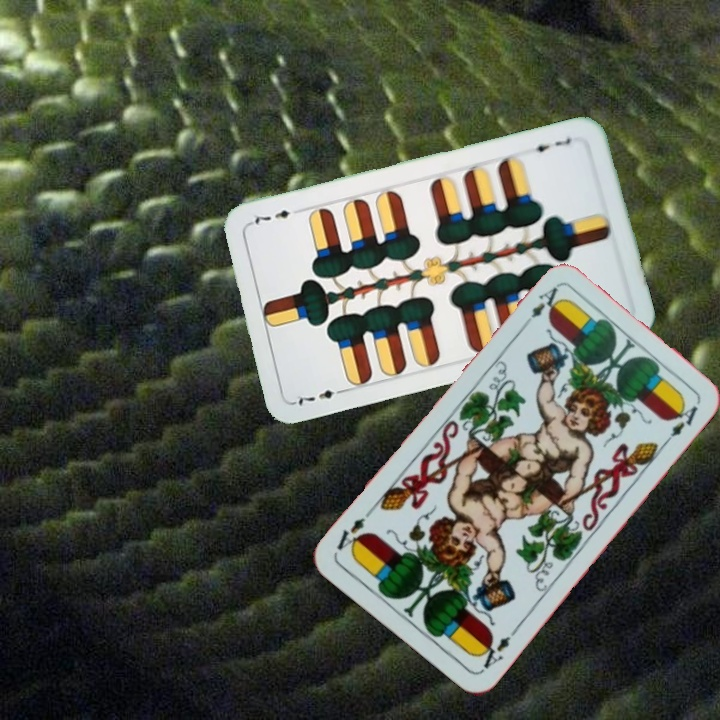E7: (292, 385, 349, 408), (525, 133, 575, 155)
EA: (475, 623, 521, 674), (526, 282, 561, 321)
